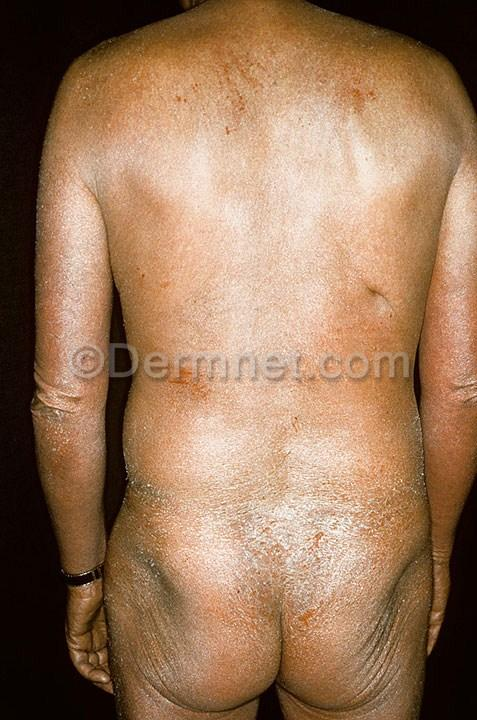Eczema: (255, 25, 324, 96), (139, 34, 211, 102), (260, 429, 327, 501), (325, 37, 391, 110), (117, 533, 180, 608), (128, 410, 200, 473), (388, 46, 445, 123), (141, 339, 208, 403), (212, 6, 262, 81), (203, 446, 259, 505), (175, 552, 226, 610), (337, 545, 388, 602), (131, 478, 187, 529), (328, 441, 380, 495), (289, 517, 339, 571), (282, 582, 338, 626), (386, 445, 429, 502), (89, 112, 142, 158), (83, 62, 135, 108), (345, 498, 396, 541), (225, 580, 269, 627), (232, 513, 272, 563), (191, 495, 222, 556)
